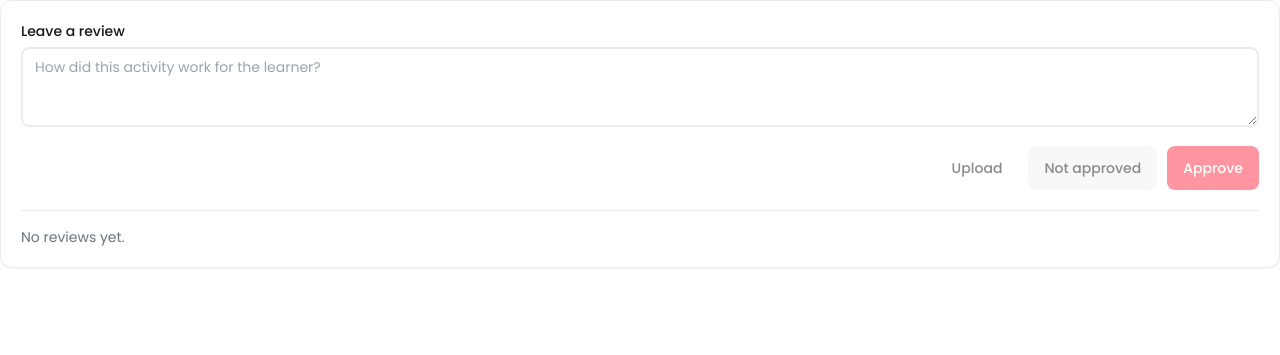
it: stores the Approve decision separately from UC3 status
The image size is (1280, 355).
Type "Useful activity." into the text box labelled "Leave a review".
click(640, 87); type("Useful activity.")  # box [21,47,1259,127]
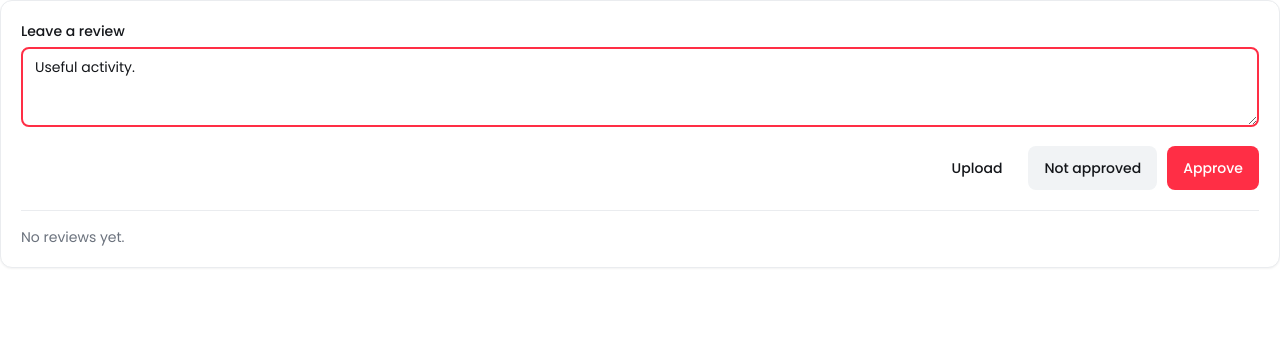
Click the button "Approve".
click(1213, 168)  # box [1167,146,1259,190]
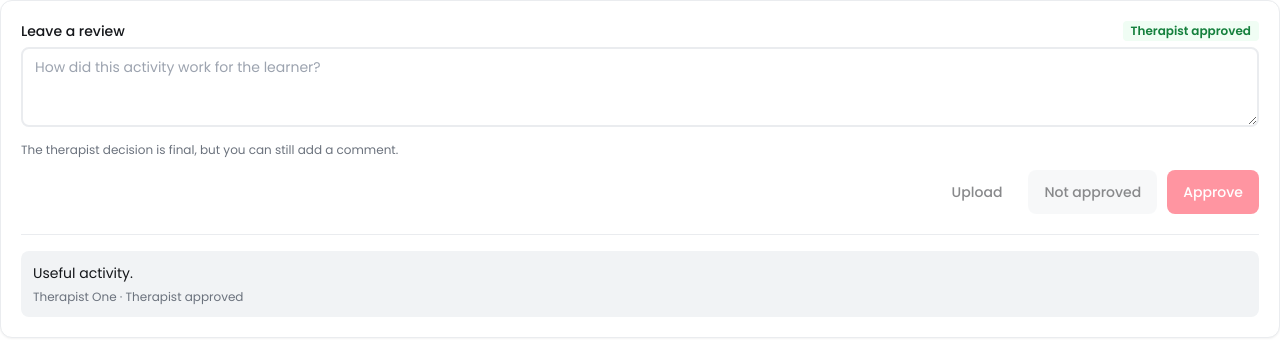
Expected: the text "Therapist approved" is shown, [1123,21,1259,41]
